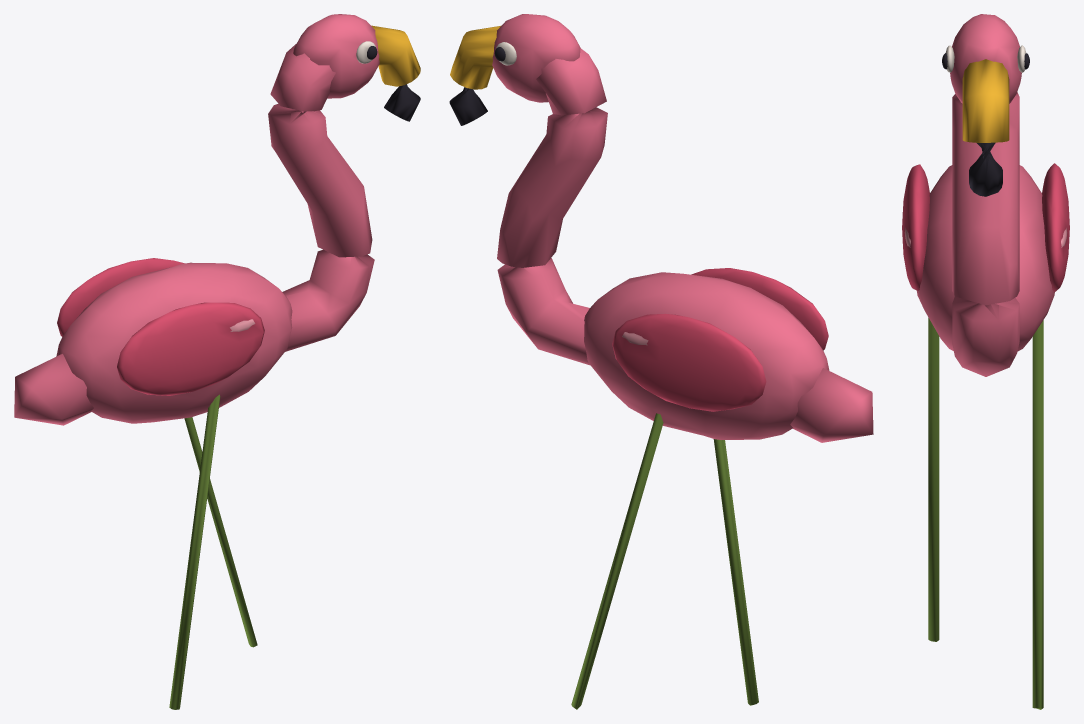
3 renders of one model, left to right at view 1: azimuth 30°, elevation 25°; view 2: azimuth 150°, elevation 25°; view 3: azimuth 270°, elevation 25°, orthographic. The views are drawn at different scales.
Size of the model in its own units: 0.8752 by 1.31 by 0.2742.
